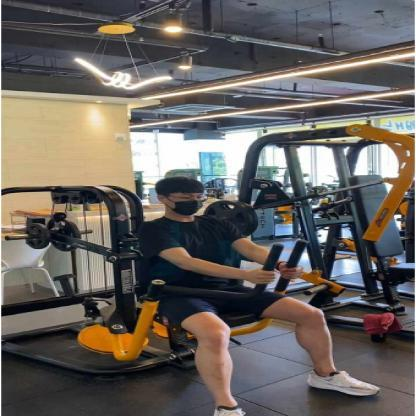chest fly machine: (12, 133, 372, 416)
